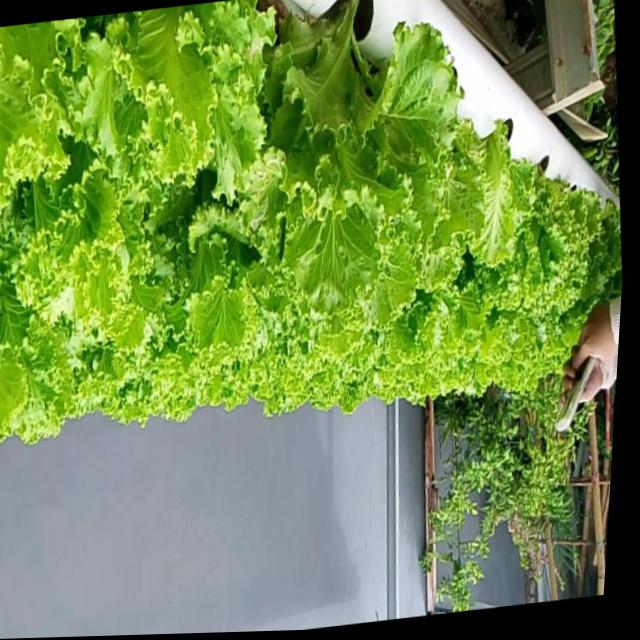Mature: (0, 0, 622, 445), (258, 6, 451, 303), (475, 140, 616, 349)
